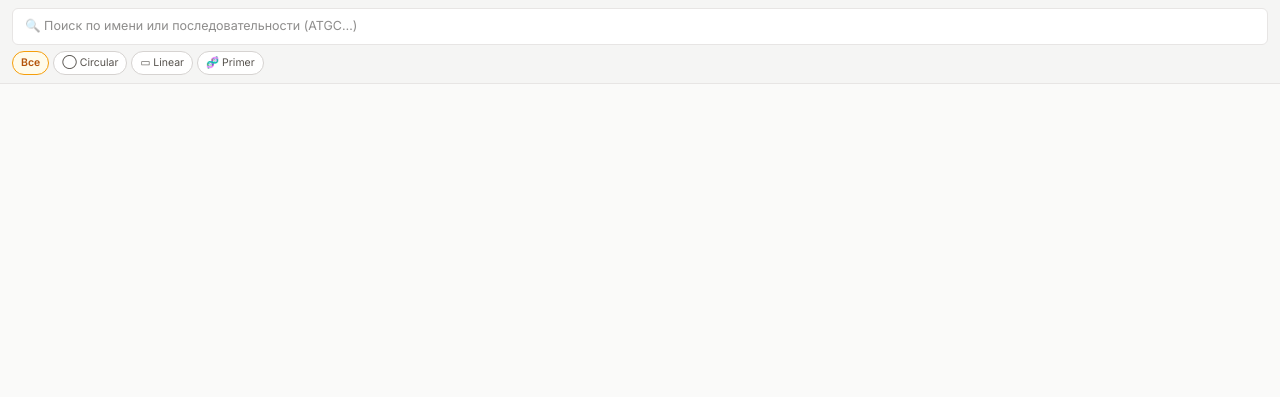
Test: LibrarySearchBar — dropdown mode (canvas) › Esc closes dropdown
Focus the search field with test id "canvas-library-search-bar-input" at (640, 26), box left=12, top=8, right=1268, bottom=45
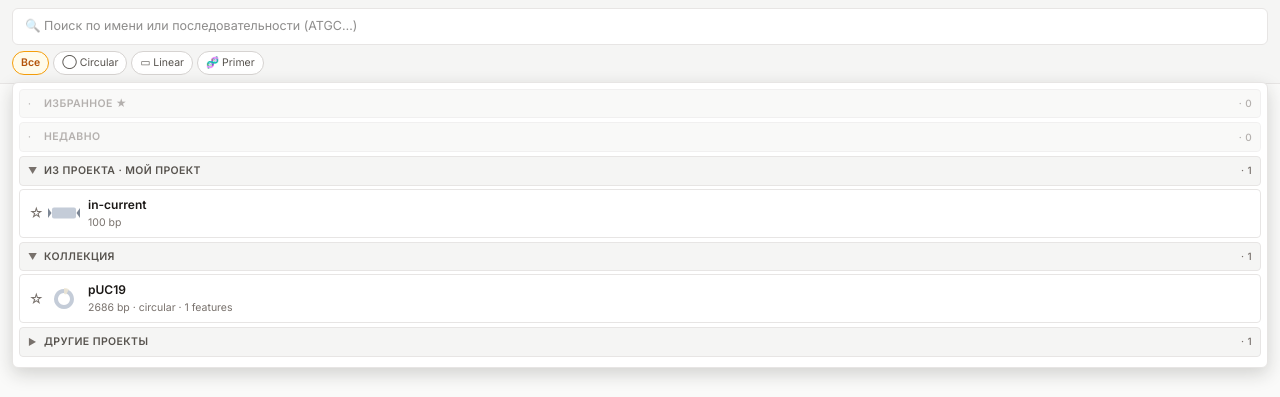
Press Escape
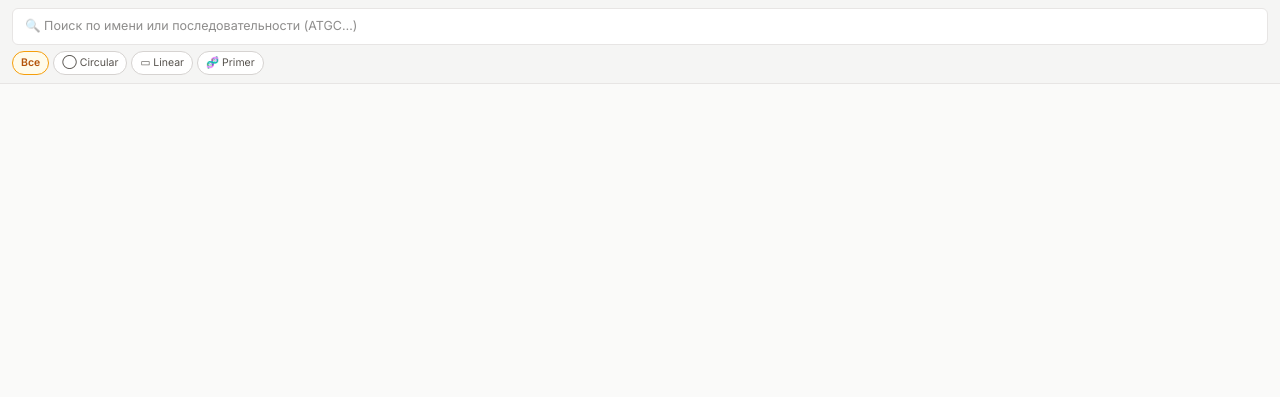
Check: the element with test id "canvas-library-search-bar-dropdown" is gone
